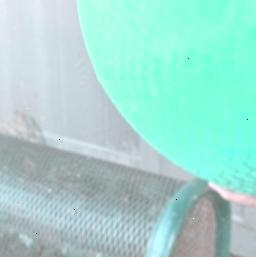algae: (77, 0, 256, 198)
